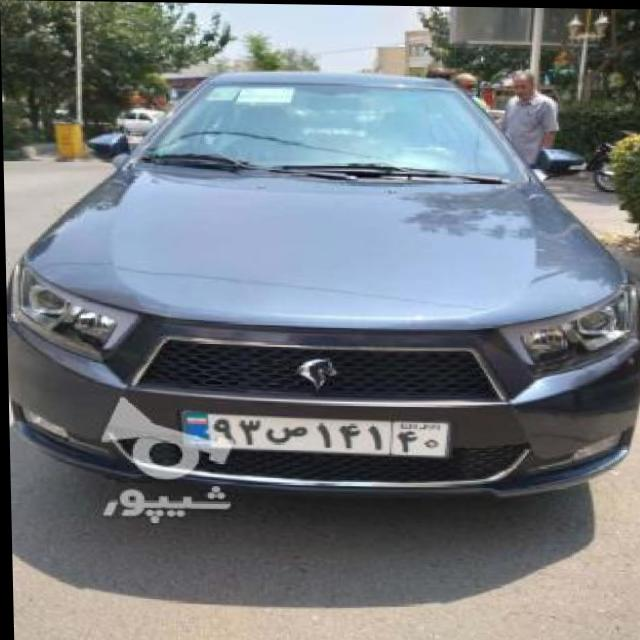licence: (173, 412, 453, 453)
